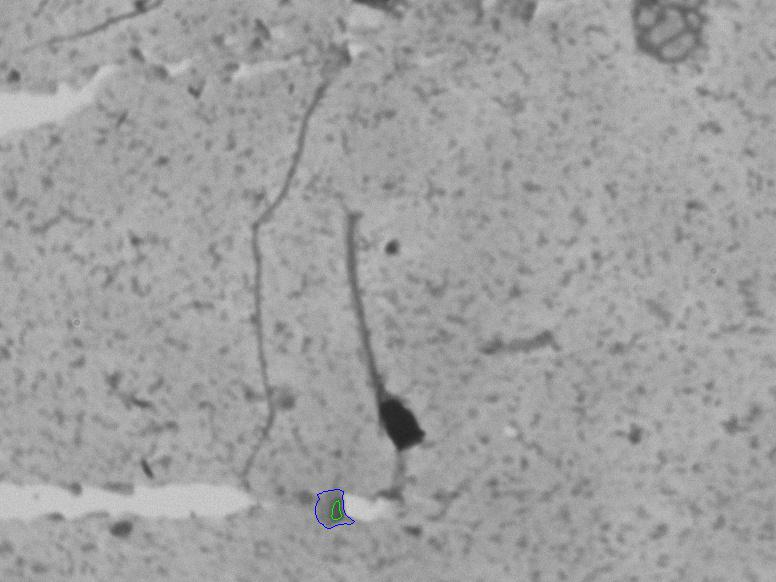Abnormal: (321, 200, 457, 474)
